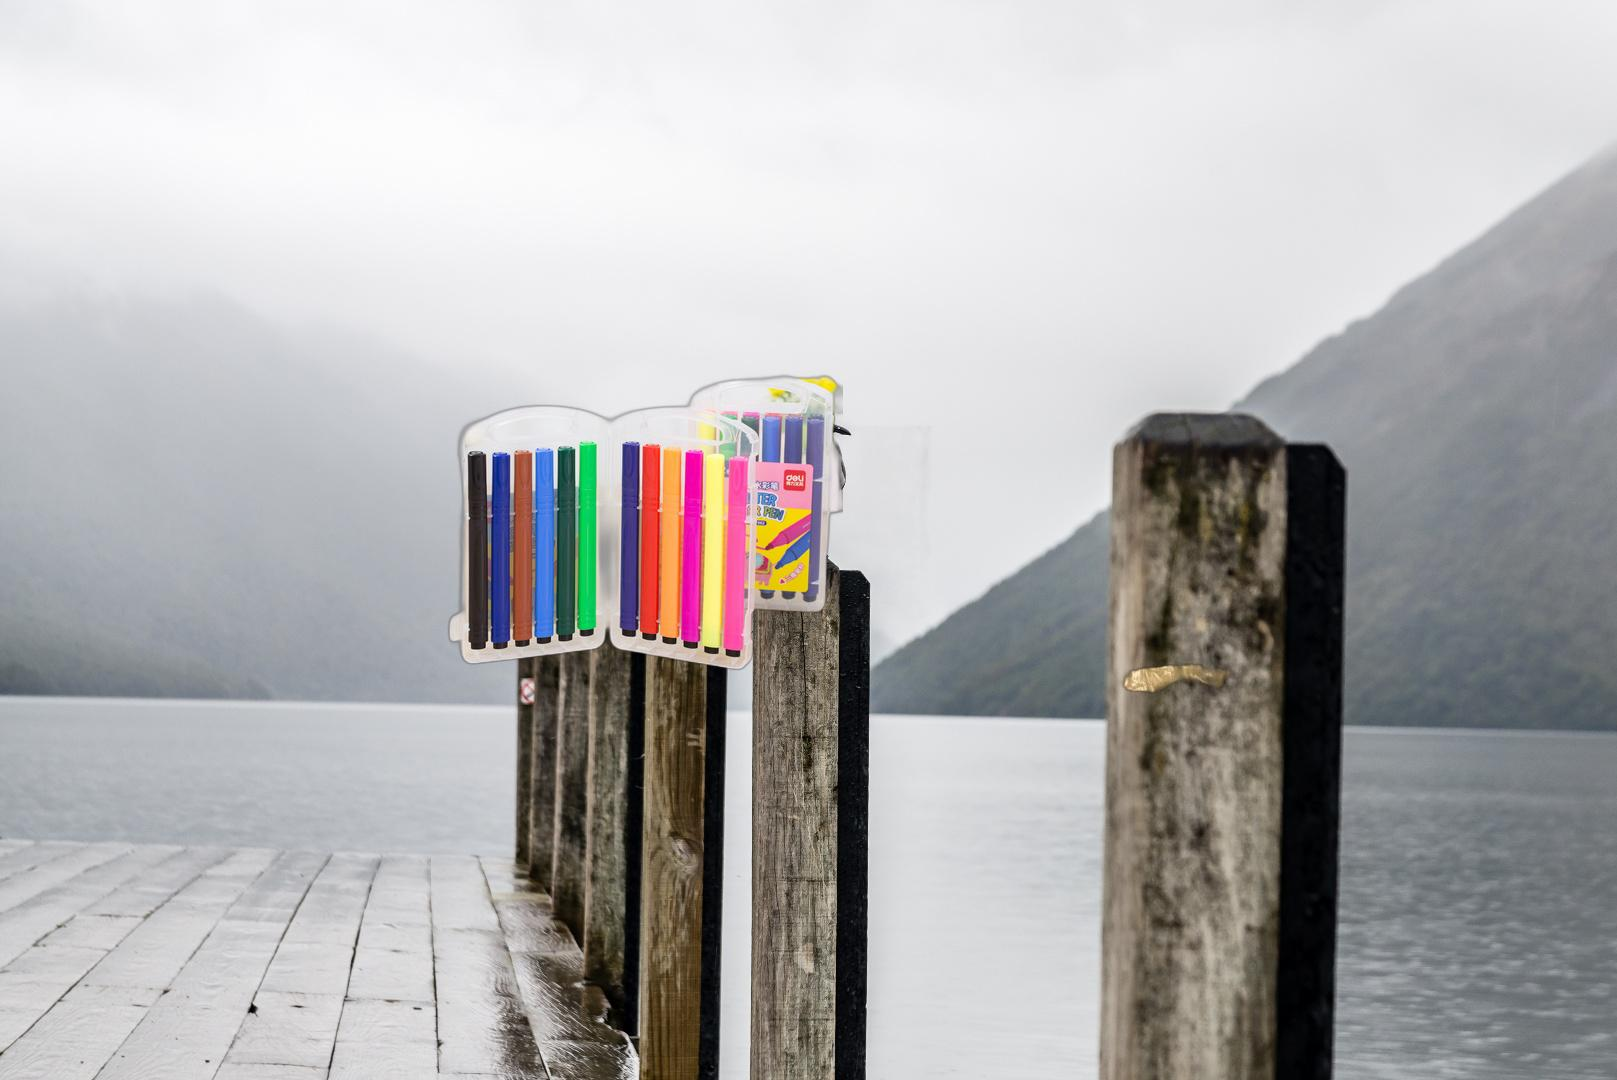penholder: (445, 372, 843, 674)
trashbox-cardboard: (843, 425, 1241, 695)
